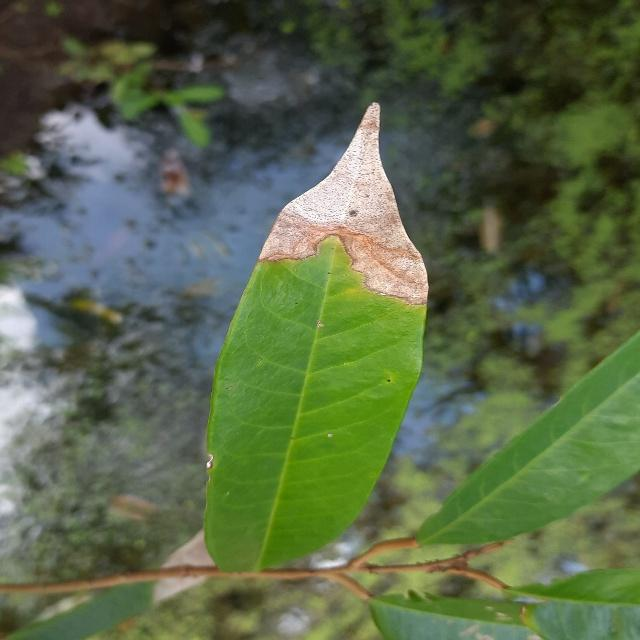Leaf Blight: (197, 93, 433, 581)
